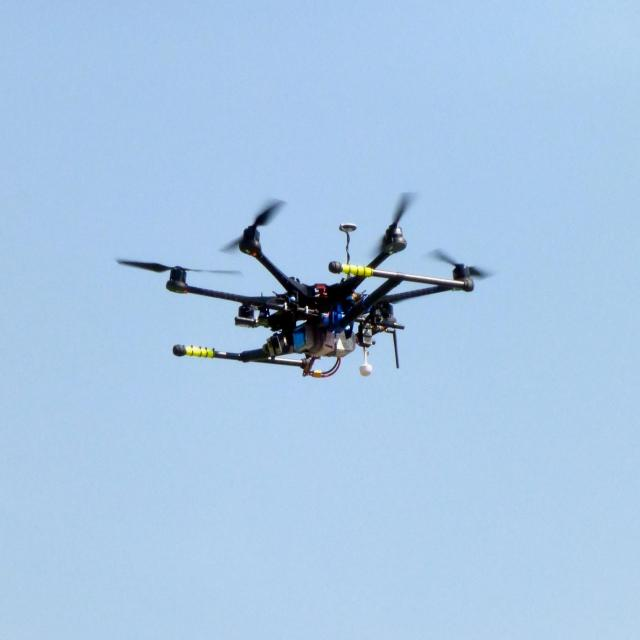drone: (162, 216, 486, 382)
